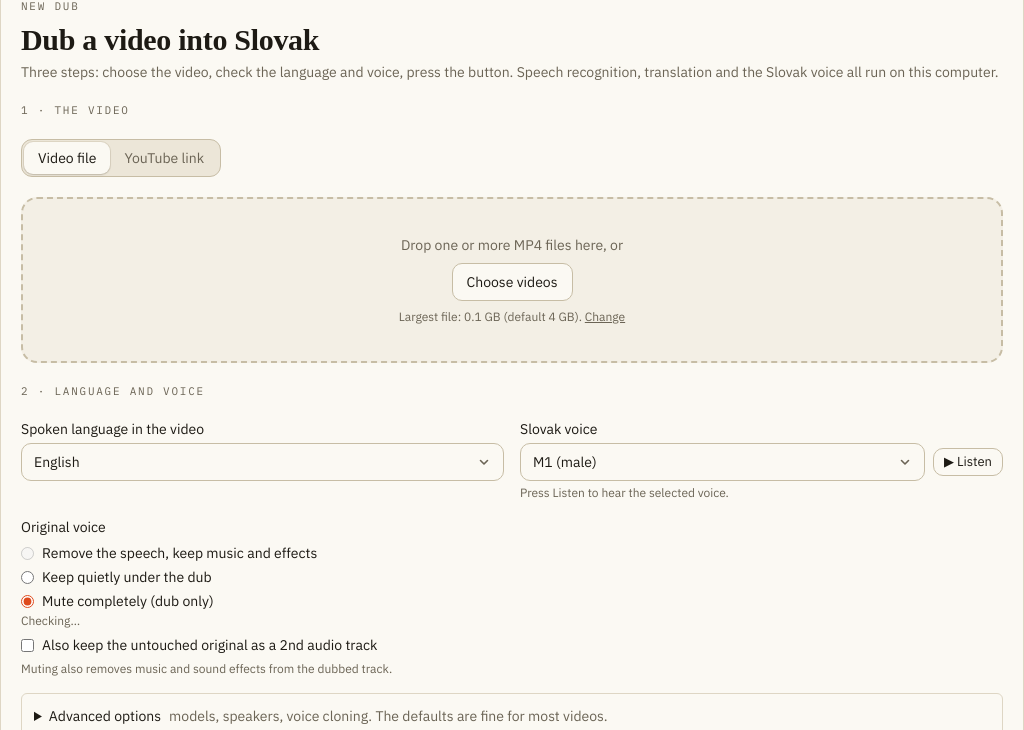
Scenario: NewProject with a YouTube link › shows the server's refusal and stays on the page
Click the tab "YouTube link" at (164, 158), box [110,142,218,174]
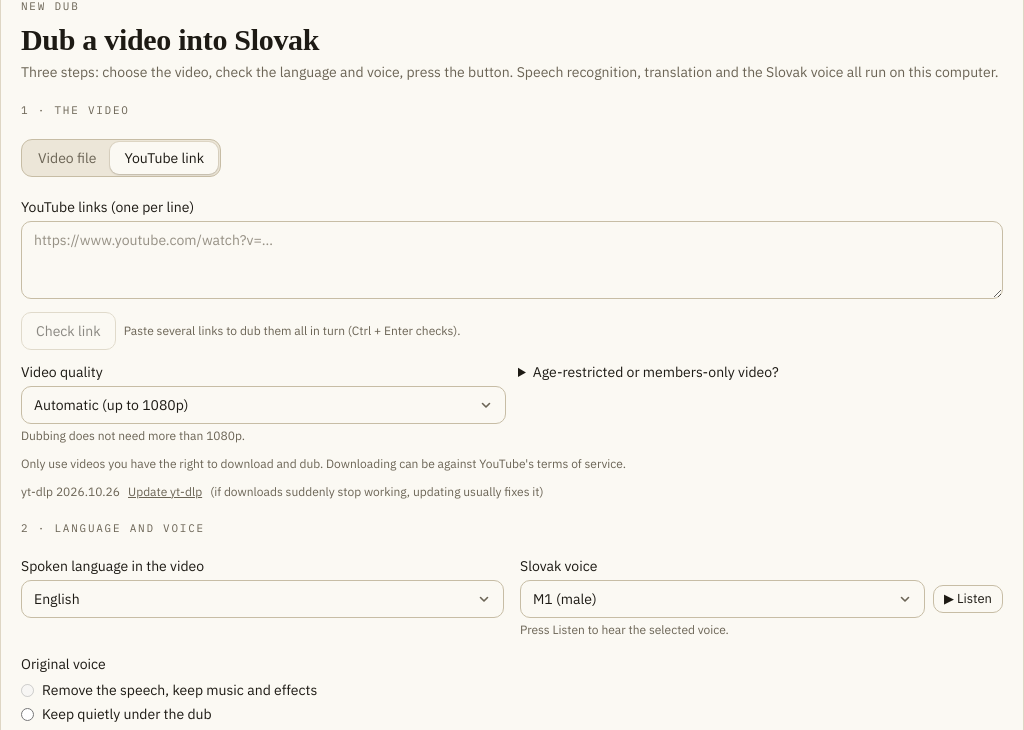
Type "https://youtu.be/abc" into the text box labelled "YouTube links (one per line)" at (512, 260), box [21,220,1003,298]
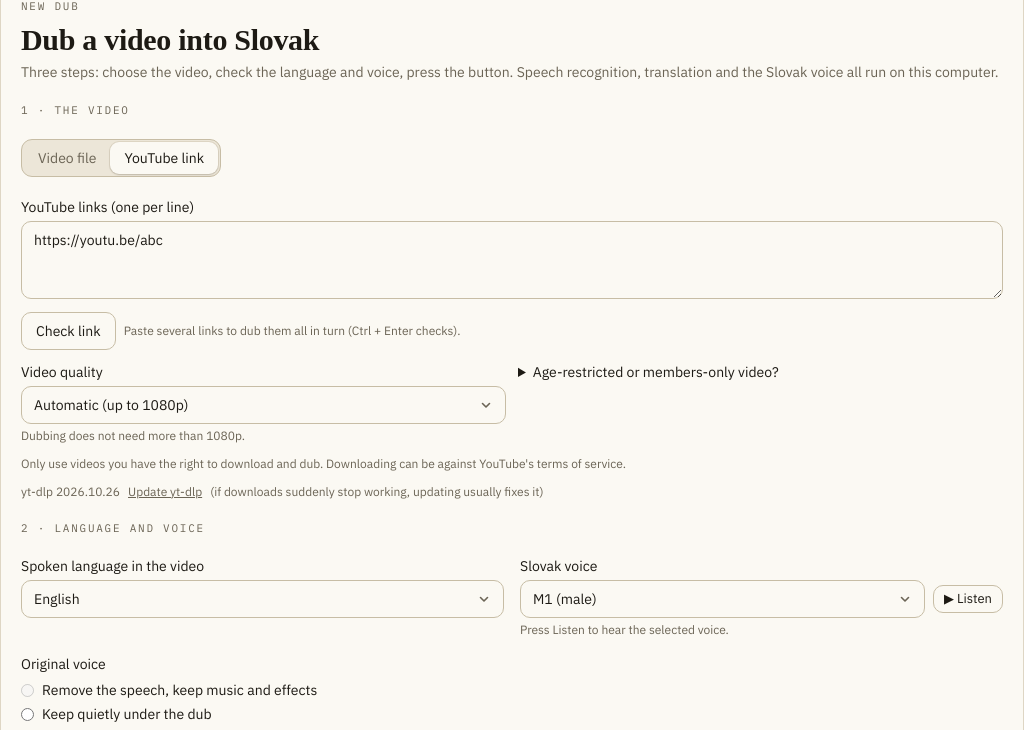
Click the button "Check link" at (68, 330), box [21,312,116,350]
(page scrolled)
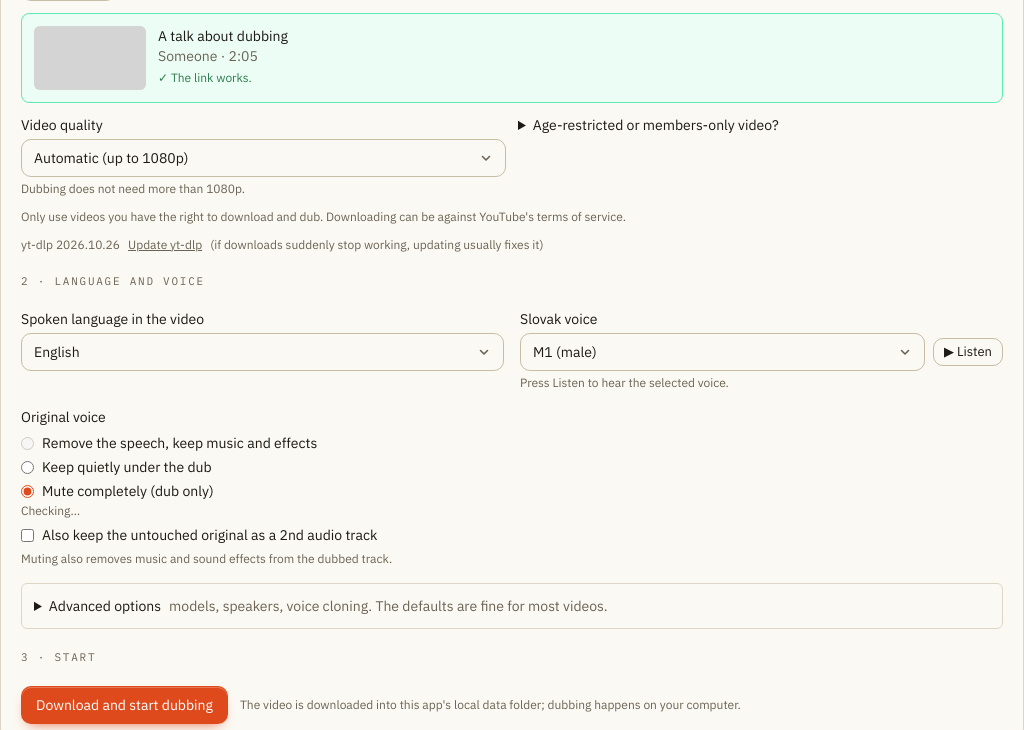
Check: the list item with test id "youtube-card" is shown, box [21,12,1003,102]
Click the button "Download and start dubbing" at (124, 704), box [21,686,228,724]
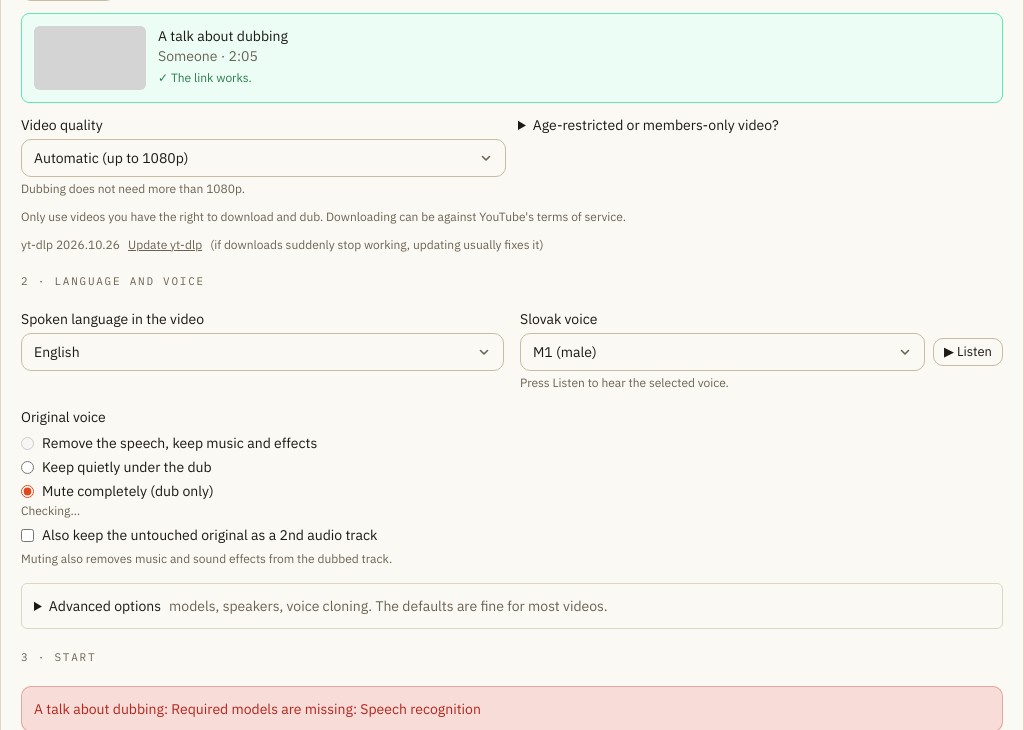
Check: the message shows "Required models are missing", box [34,700,481,718]
